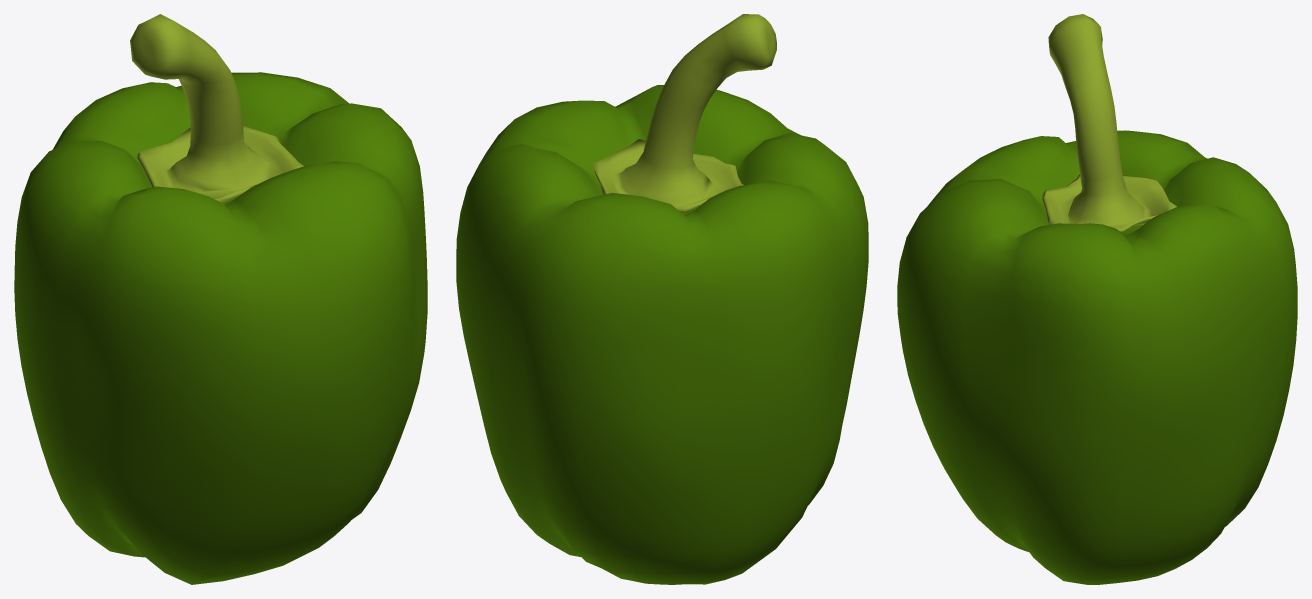
The model's file is BellPepper2.fbx.
The picture shows the model from 3 angles, left to right: view 1: azimuth 30°, elevation 25°; view 2: azimuth 150°, elevation 25°; view 3: azimuth 270°, elevation 25°; orthographic projection. The views are drawn at different scales.
Visible parts, largest first — view 1: BellPepper2; view 2: BellPepper2; view 3: BellPepper2.
Boxes of the visible parts, bbox=[...] form: BellPepper2: bbox=[14, 14, 427, 584]; BellPepper2: bbox=[456, 14, 868, 584]; BellPepper2: bbox=[897, 14, 1297, 584].
Size of the model in its own units: 0.0373 by 0.0539 by 0.0392.
Materials: 1 (1 with a texture image).
